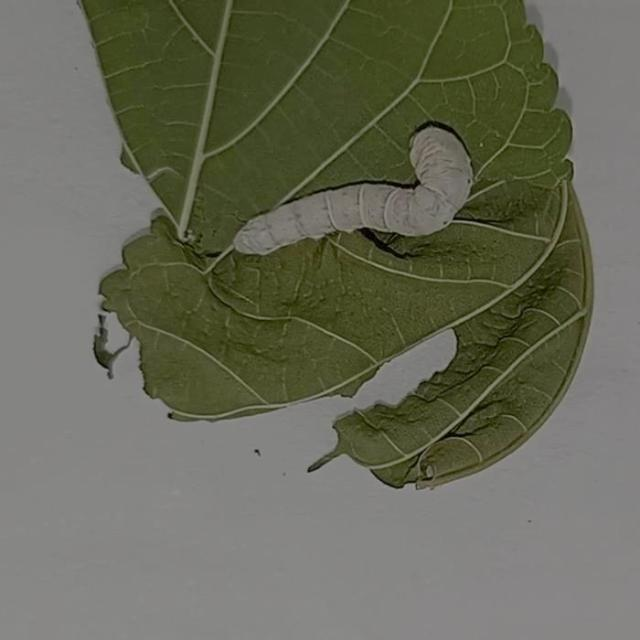Healthy: (220, 108, 484, 273)
